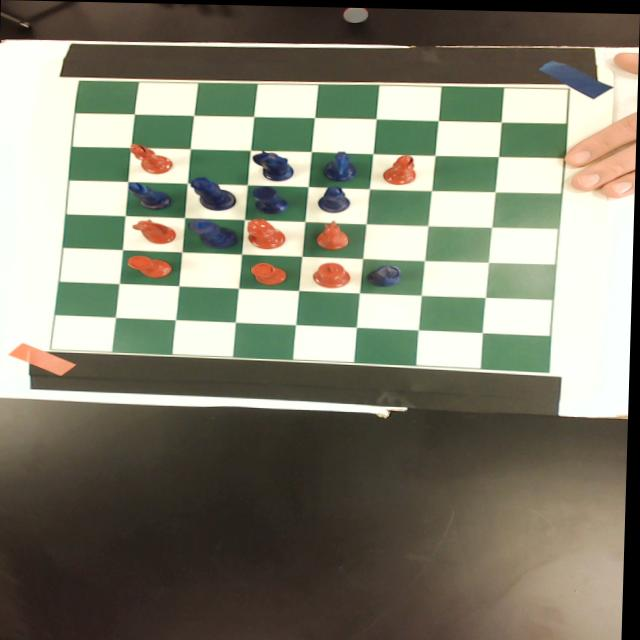B: (125, 181, 174, 210), (316, 183, 353, 213)
K: (187, 216, 242, 249)
N: (251, 147, 296, 182), (320, 148, 359, 182)
Q: (189, 175, 238, 212)
R: (250, 183, 290, 214), (366, 261, 403, 286)
b: (126, 142, 175, 174), (380, 151, 418, 184)
k: (312, 261, 353, 287)
n: (130, 218, 178, 245), (313, 218, 352, 250)
q: (246, 216, 289, 249)
r: (127, 254, 176, 278), (251, 261, 288, 286)
